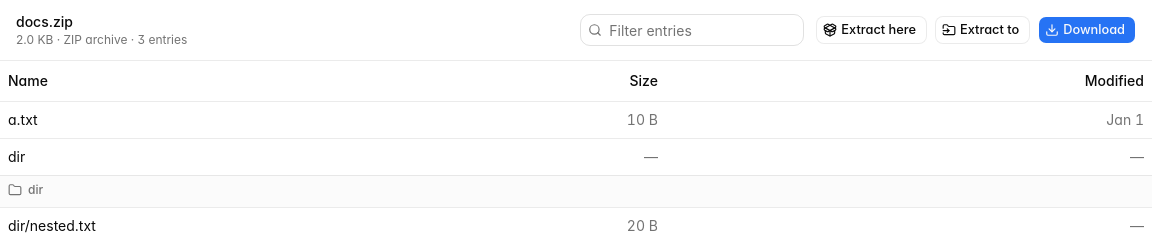
shows a no-match message when the search filters out every entry
In the field with placeholder "Filter entries": (692, 30) [580, 14, 804, 46], type "nothing matches this"
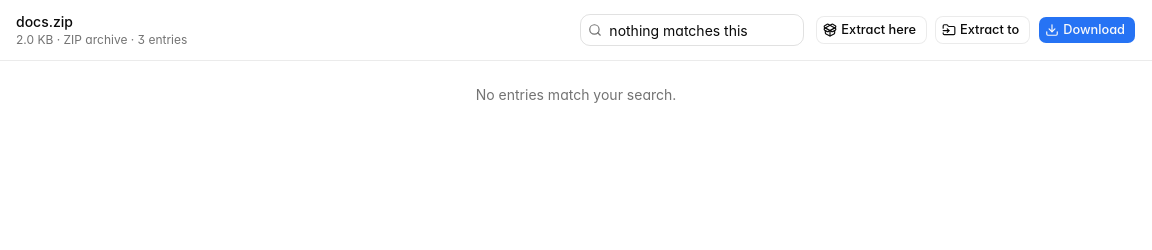
Expected: the text "No entries match your search." is shown, [476, 86, 676, 103]
